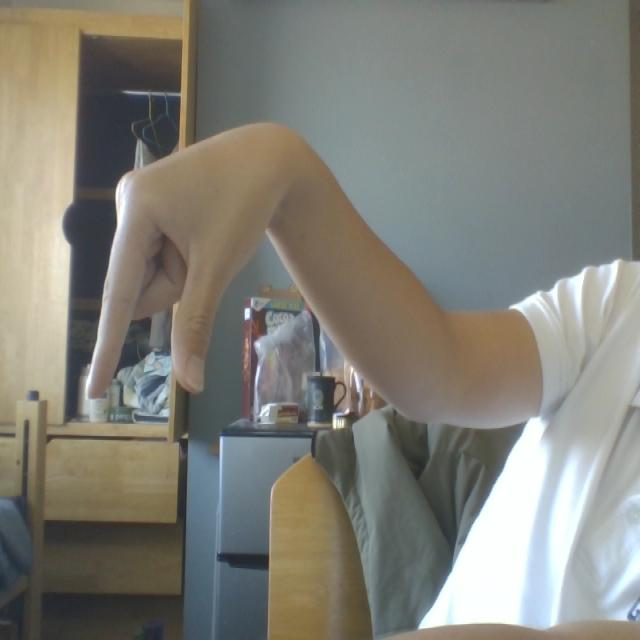Q: (55, 127, 312, 420)
